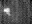person: (4, 8, 11, 15)
